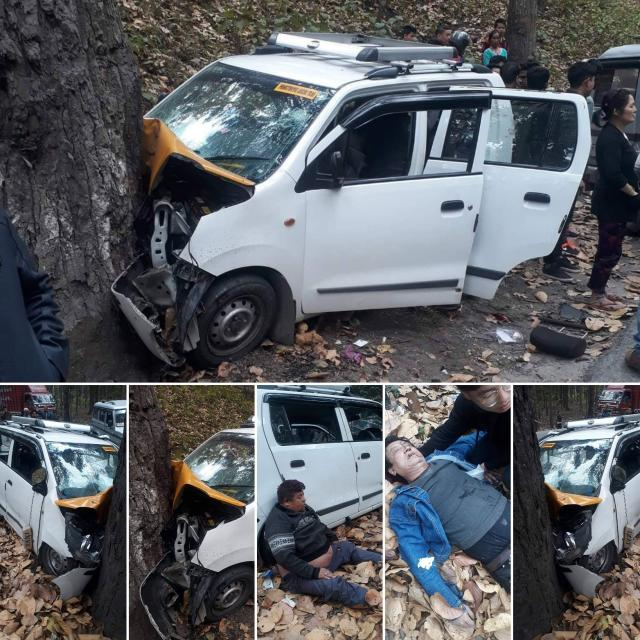accident: (111, 32, 590, 368), (140, 429, 256, 640), (0, 415, 119, 599), (540, 414, 640, 598)
